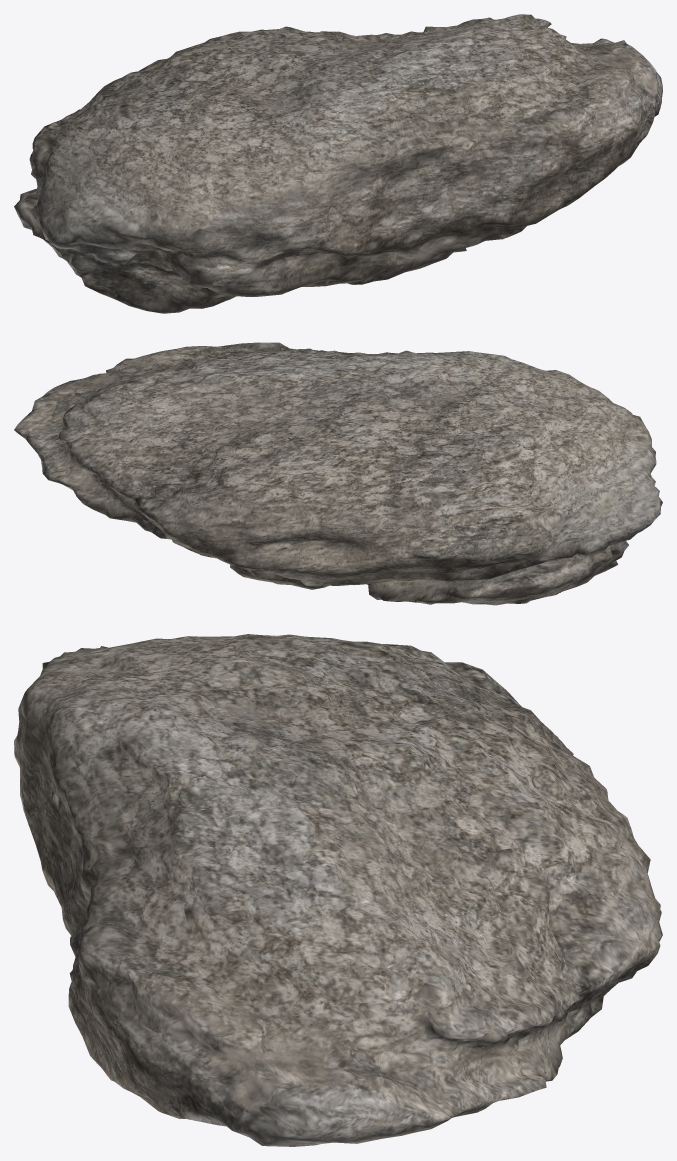
The model's file is slab_a.glb.
3 views of the same model, one above another, from view 1: azimuth 30°, elevation 25°; view 2: azimuth 150°, elevation 25°; view 3: azimuth 270°, elevation 25° (orthographic). The views are drawn at different scales.
Parts seen in each view (by area): view 1: slab_a; view 2: slab_a; view 3: slab_a.
Boxes of the visible parts, box(x1,y1,x2,y2) form: slab_a: box(14, 14, 662, 313); slab_a: box(14, 342, 662, 605); slab_a: box(14, 634, 662, 1146).
Size of the model in its own units: 7 by 1.74 by 4.21.
1 material, 1 textured.
